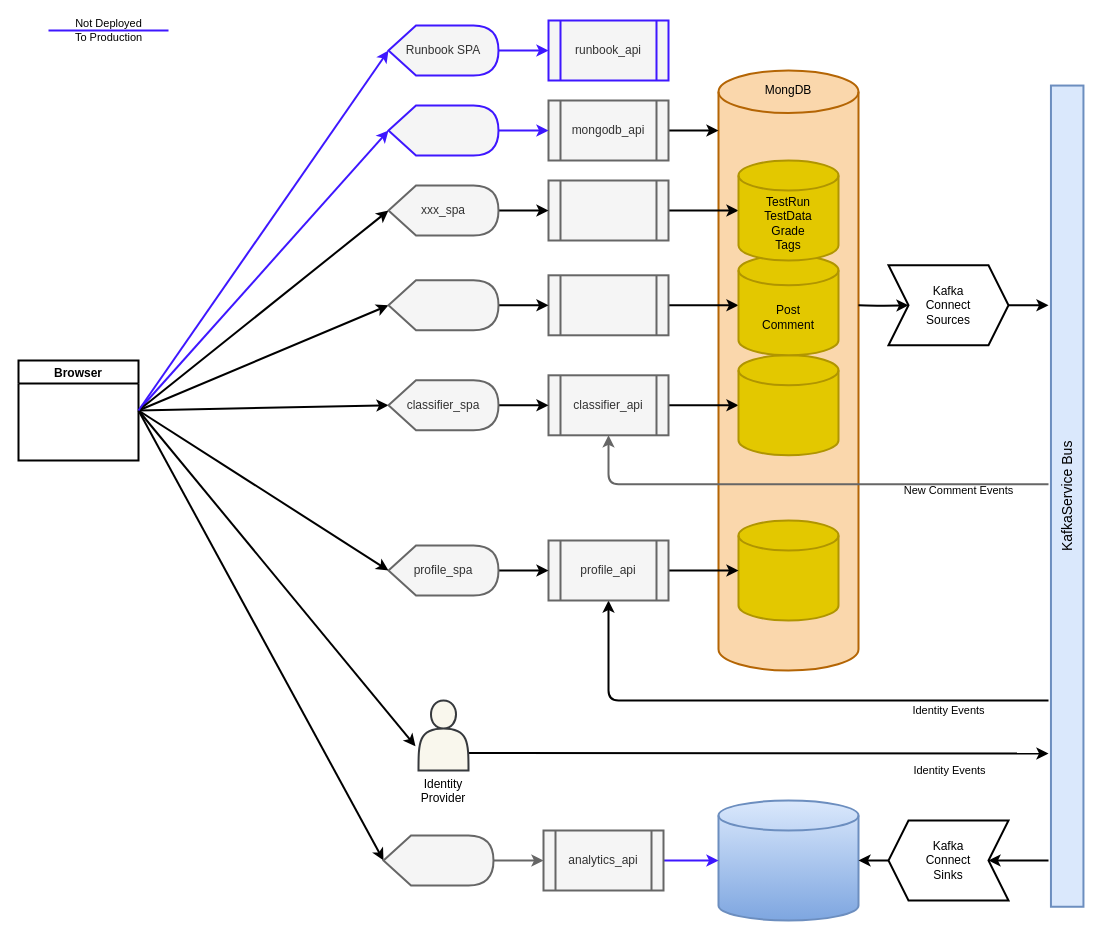
Image size: 1101x938. Some labels were removed from this diagram. Each missing label, with the centre of its shape:
analytics_sap: (438,860)
Configurator SPA: (443,130)
dashboard_api: (608,305)
dashboard_spa: (443,305)
Data Lake: (788,860)
evaluator_api: (608,210)
PostRating CommentRating Prompt: (788,405)
Profile User Identity Logins: (788,570)
